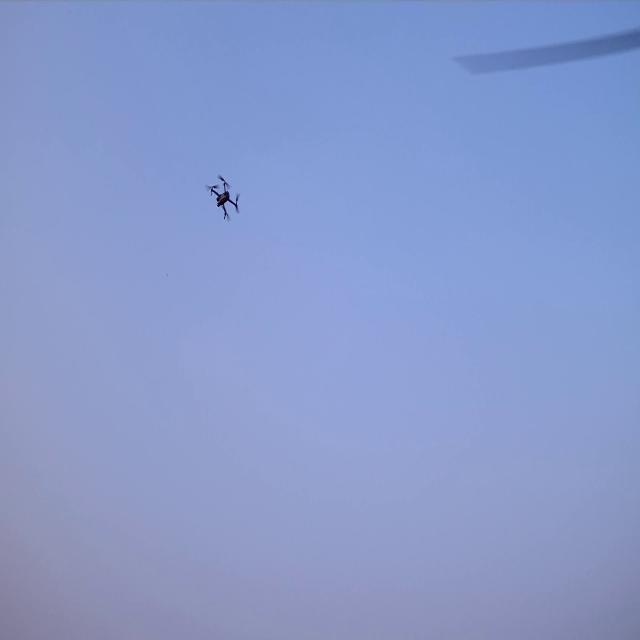UAV: (211, 178, 237, 218)
